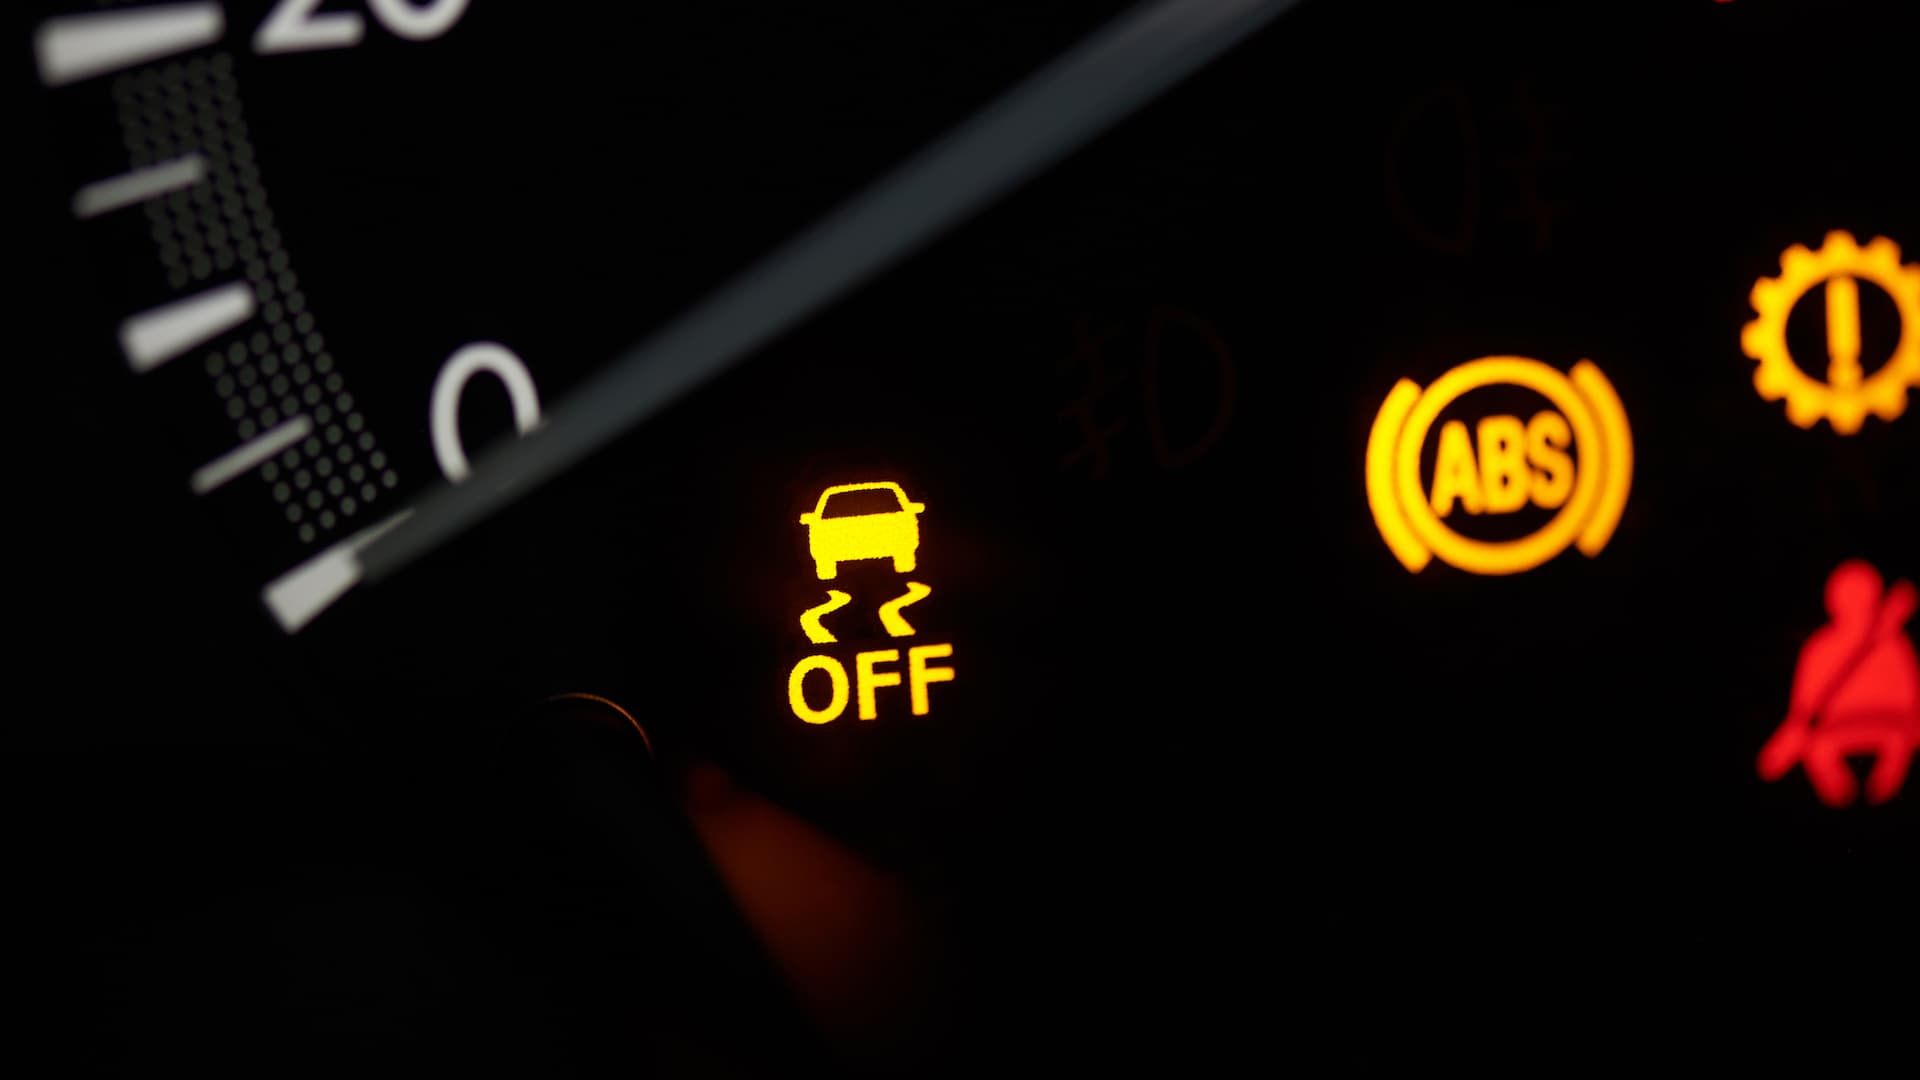ABS: (1345, 344, 1648, 605)
